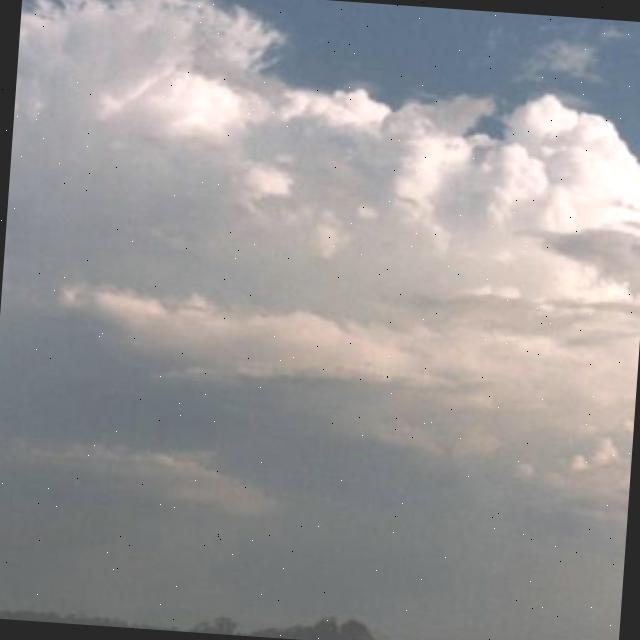St: (1, 13, 640, 527)
